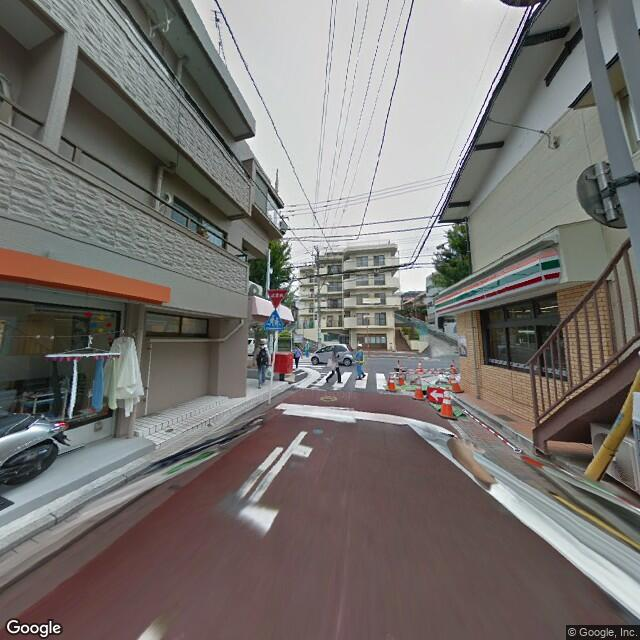7-eleven: (435, 241, 564, 319)
